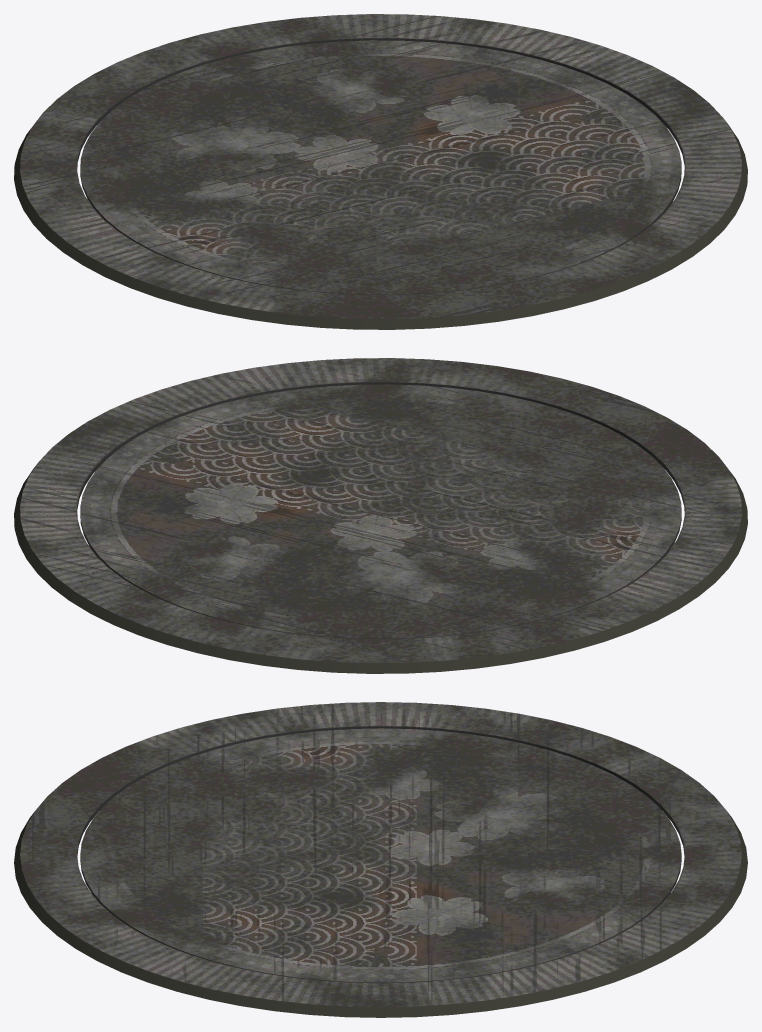
The model's file is blossom-wave-manhole-cover.fbx.
3 renders of one model, top to bottom at view 1: azimuth 30°, elevation 25°; view 2: azimuth 150°, elevation 25°; view 3: azimuth 270°, elevation 25°, orthographic.
Visible parts, largest first — view 1: manhole_decorated; view 2: manhole_decorated; view 3: manhole_decorated.
Boxes of the visible parts, <box> form: manhole_decorated: <box>14,14,747,329</box>; manhole_decorated: <box>14,358,747,673</box>; manhole_decorated: <box>14,702,747,1017</box>.
Size of the model in its own units: 73.2 by 0.9025 by 73.2.
1 material, 1 textured.
